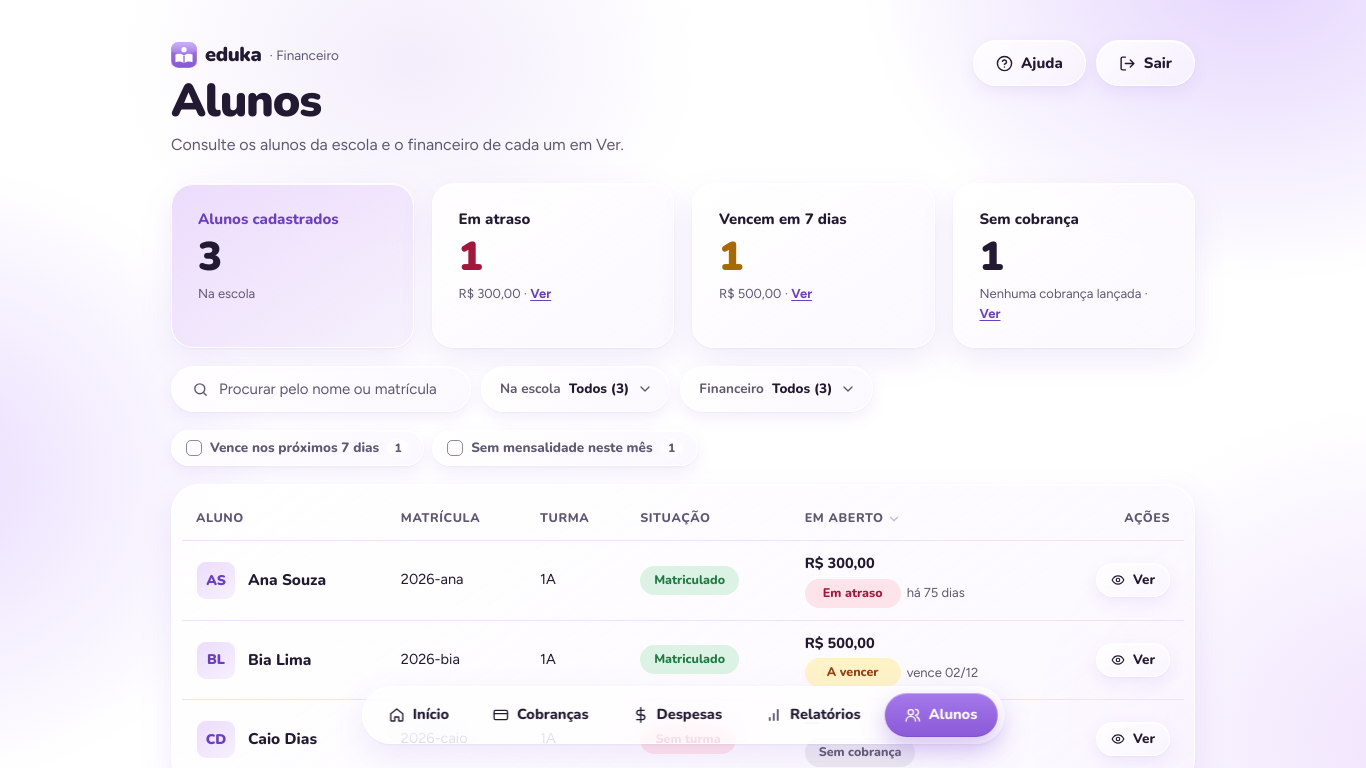
Test: Alunos: o financeiro de cada aluno › filtra pela situação financeira, com a faixa de atraso só dentro de Em atraso
Expected: the text "Ana Souza" is shown, left=248, top=570, right=326, bottom=590
Click the dropdown named "Filtrar pela situação financeira": (777,389) left=680, top=366, right=873, bottom=412
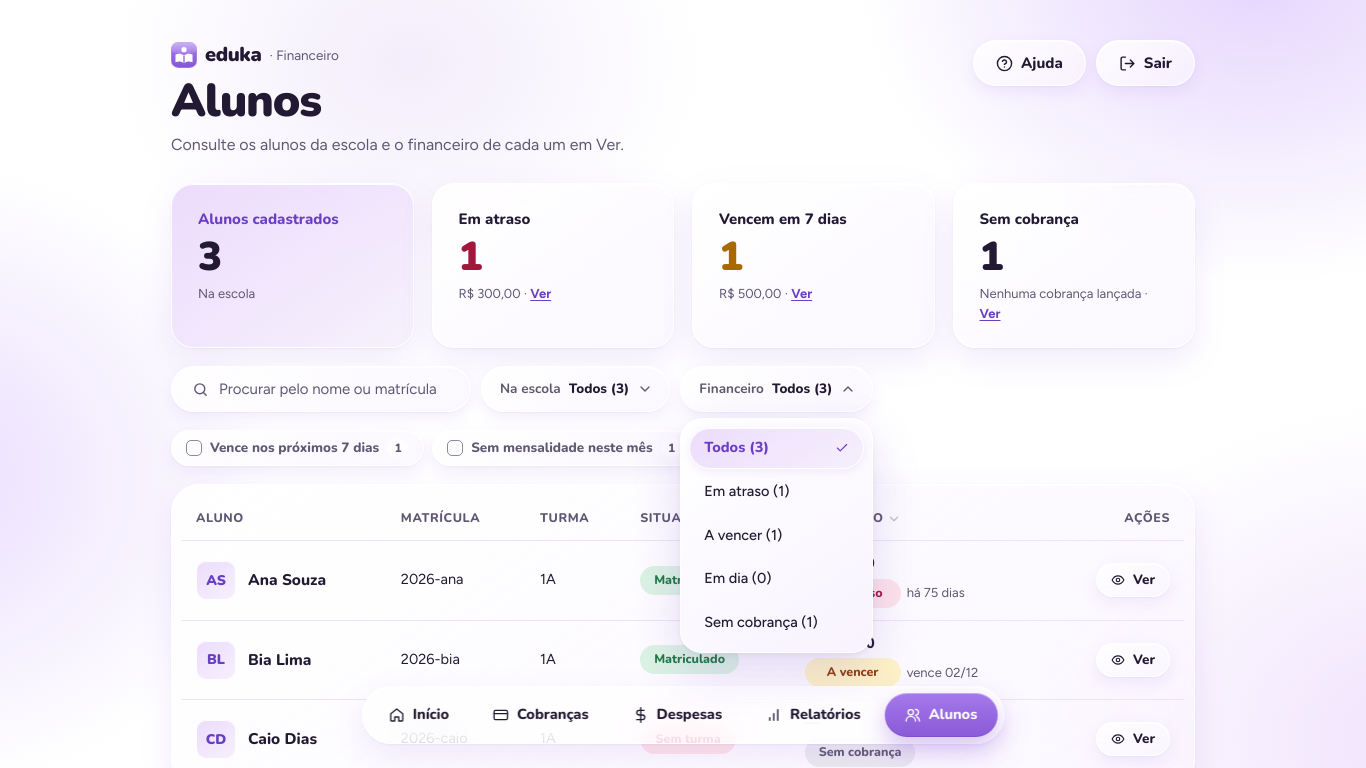
Click the option "Em atraso (1)": (747,491) left=704, top=482, right=790, bottom=500
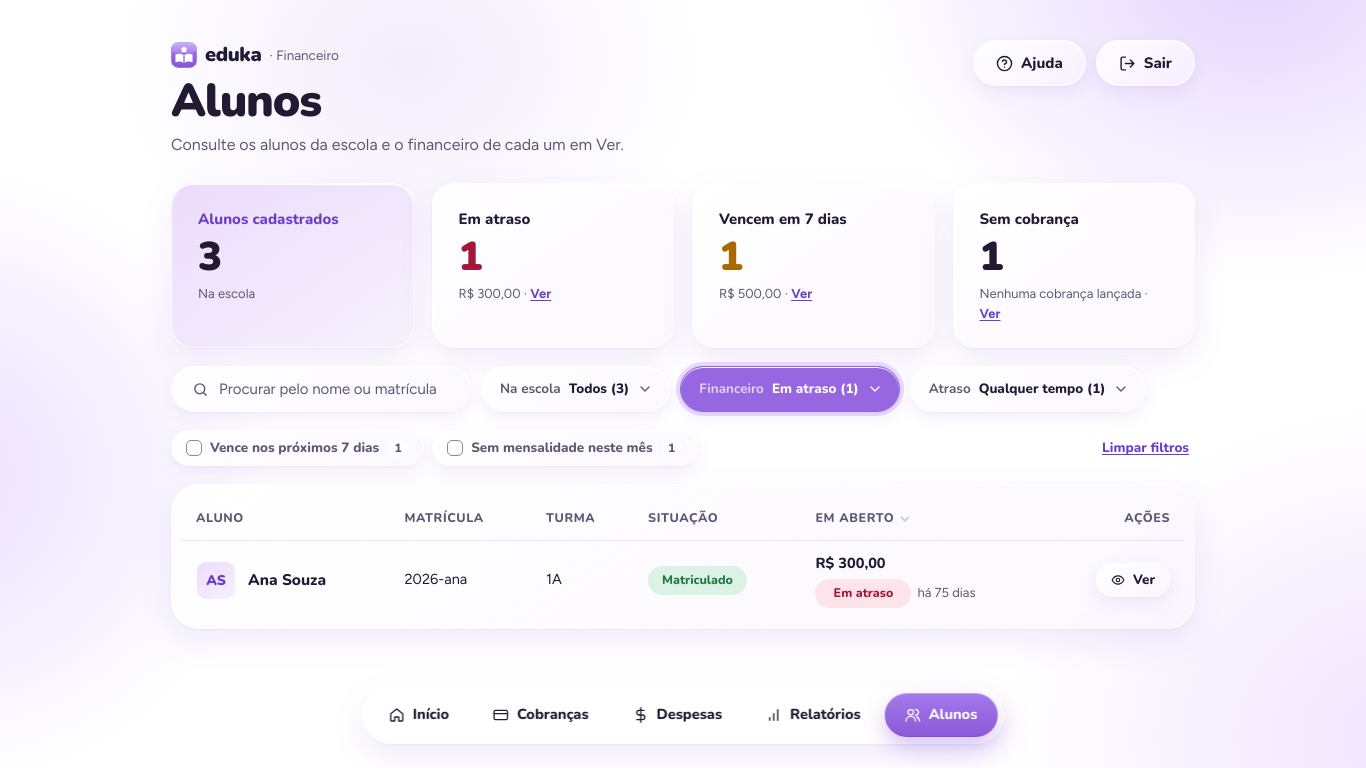
Click the dropdown named "Filtrar pelo tempo de atraso": (1028,389) left=910, top=366, right=1146, bottom=412
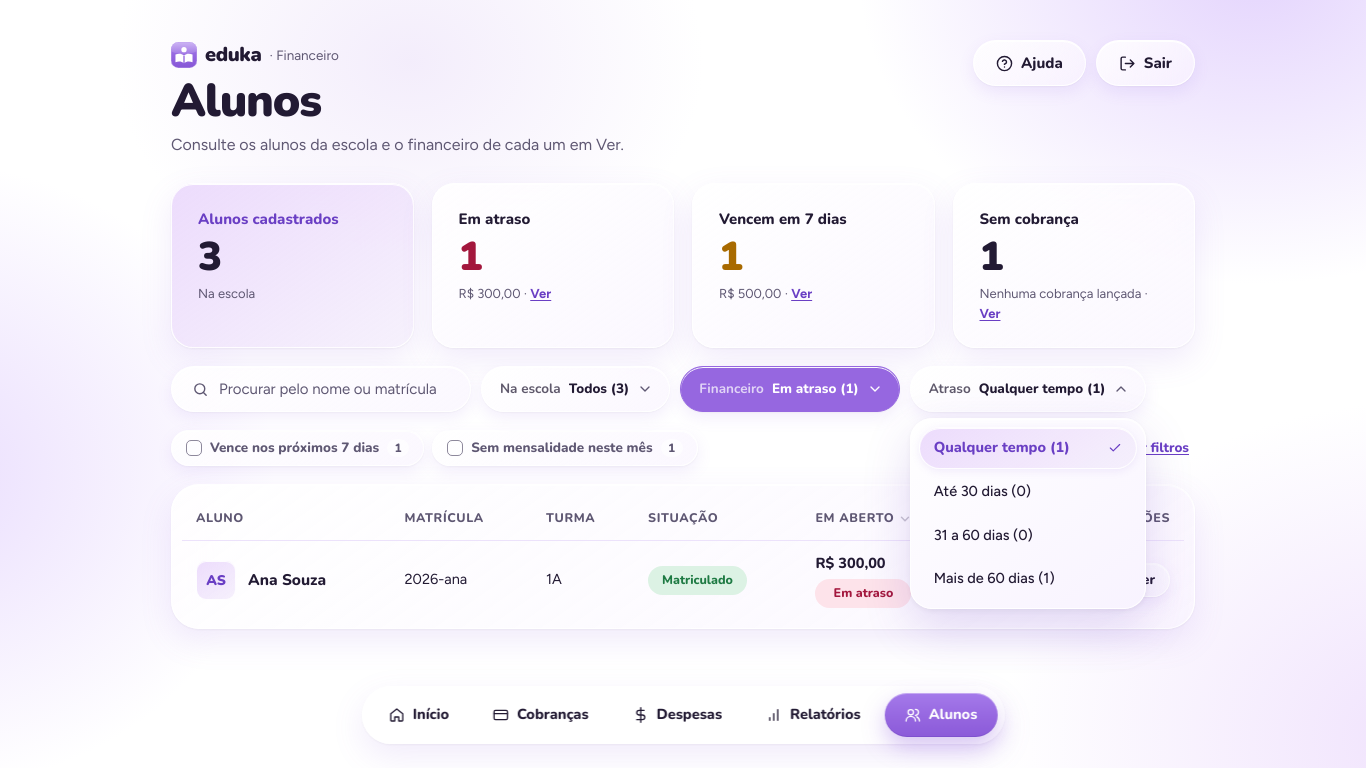
Click the option "Até 30 dias (0)": (982,491) left=934, top=482, right=1031, bottom=500
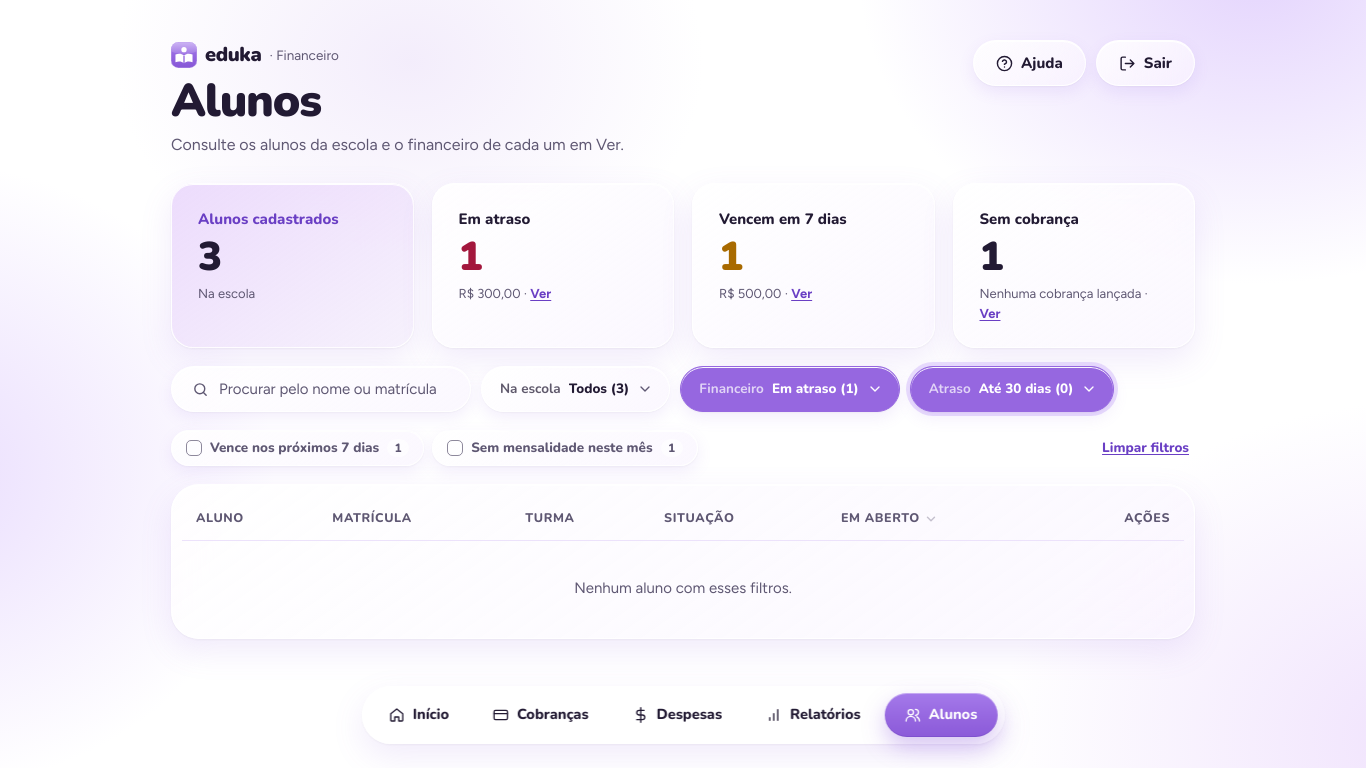
Expected: the text "Nenhum aluno com esses filtros." is shown, left=182, top=540, right=1184, bottom=630
Click the dropdown named "Filtrar pela situação financeira": (790,389) left=680, top=366, right=900, bottom=412
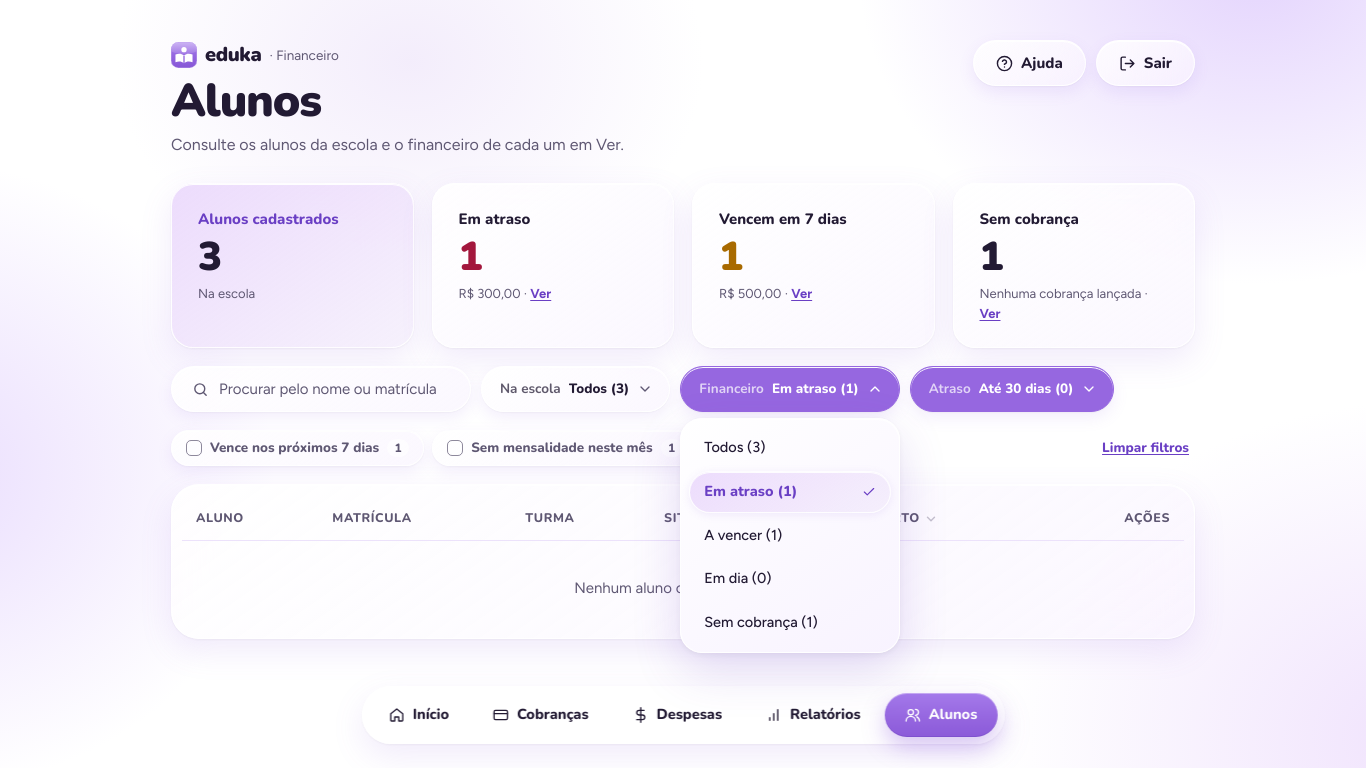
Click the option "A vencer (1)": (743,535) left=704, top=526, right=782, bottom=544
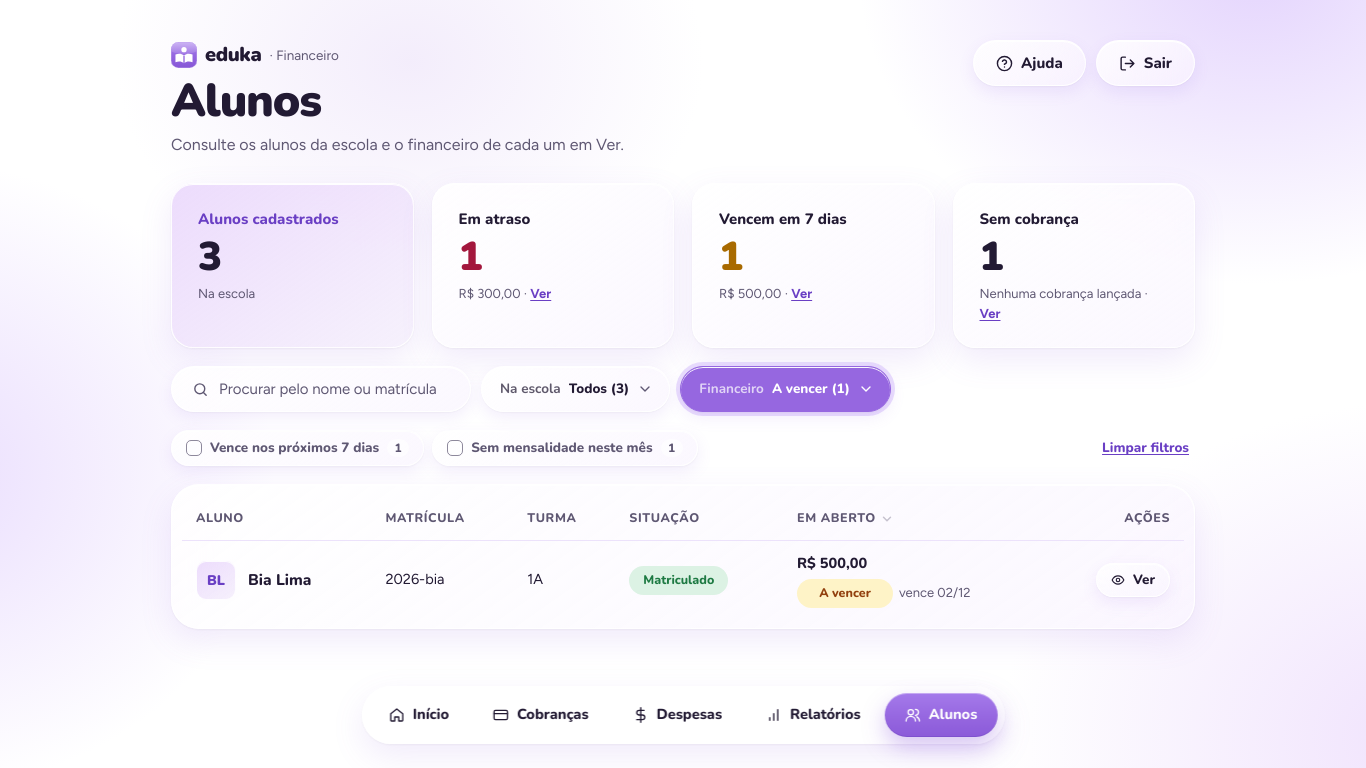
Expected: the text "Bia Lima" is shown, left=248, top=570, right=311, bottom=590
